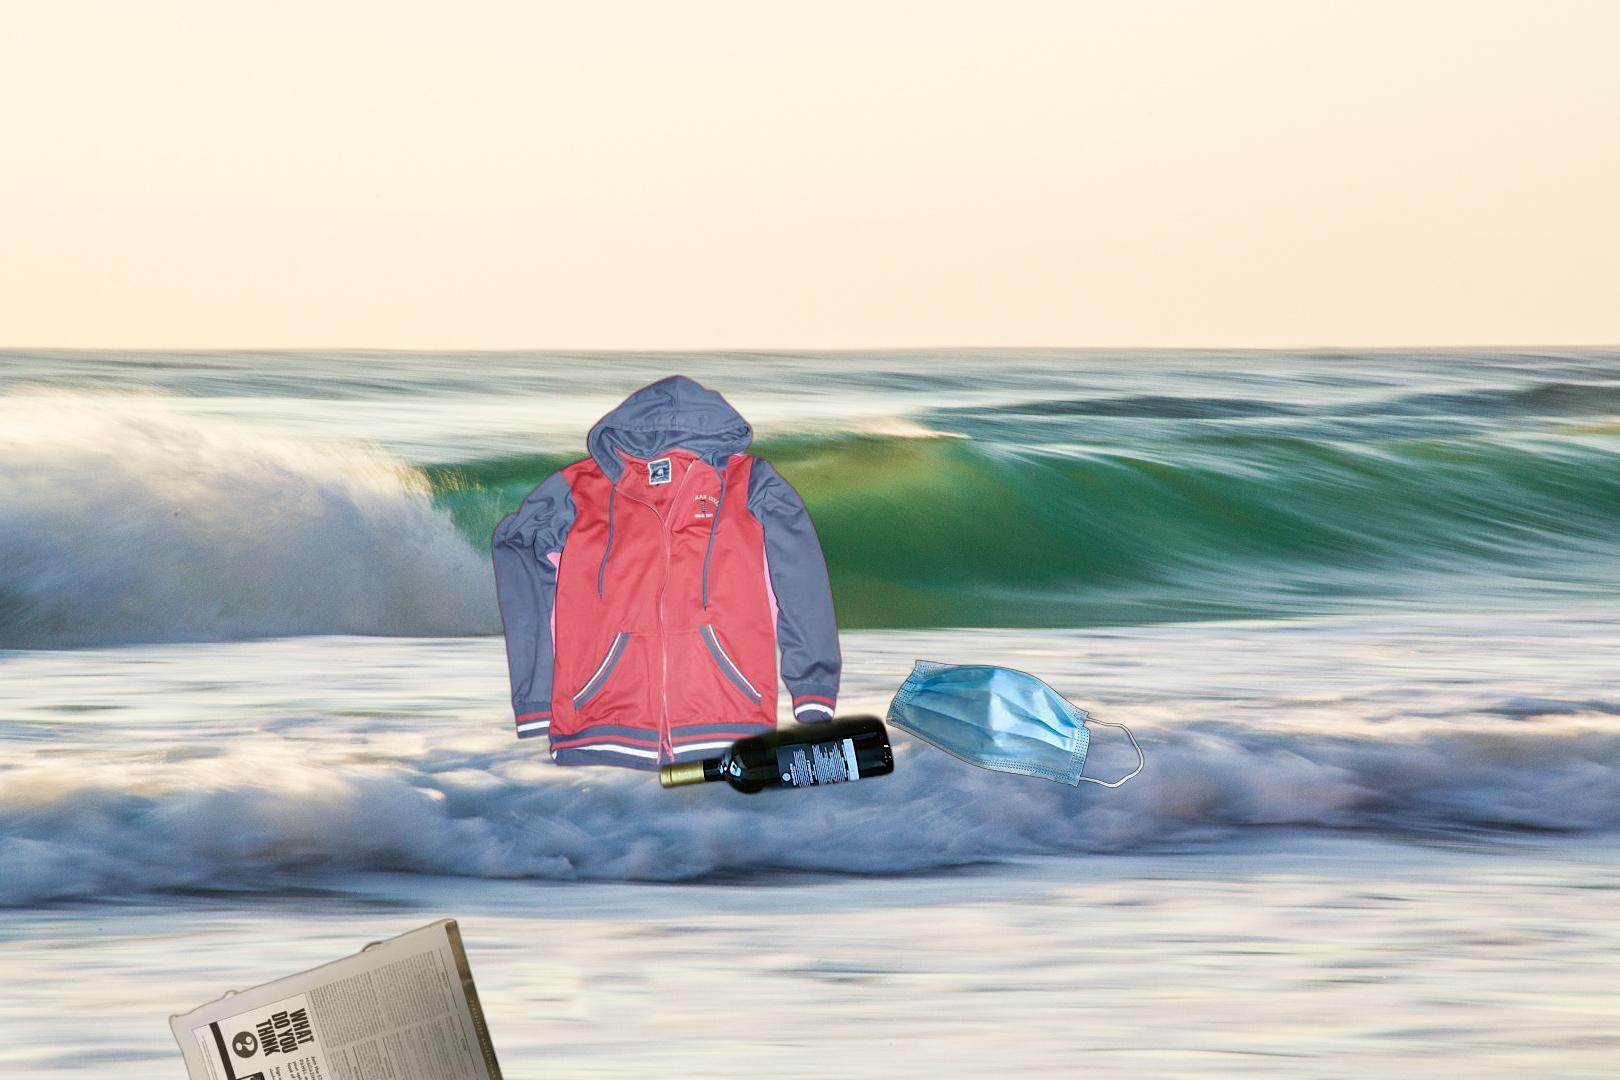clothes: (488, 370, 845, 777)
glass: (655, 709, 899, 800)
paper: (164, 915, 528, 1080)
trash: (846, 655, 1146, 791)
